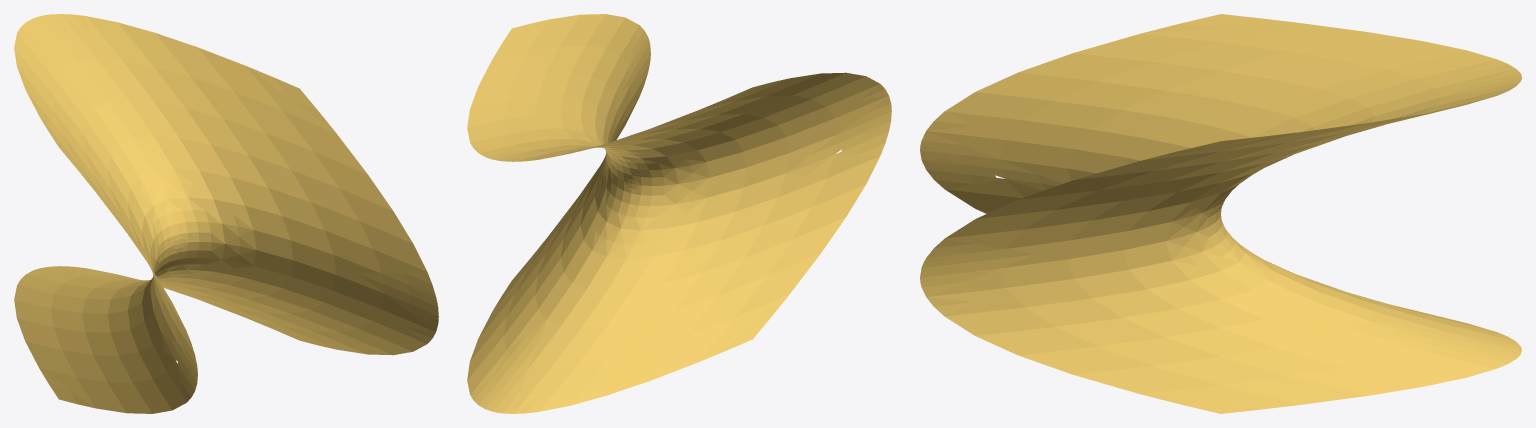
The model's file is hyperbolicParaboloid.glb.
The picture shows the model from 3 angles, left to right: view 1: azimuth 30°, elevation 25°; view 2: azimuth 150°, elevation 25°; view 3: azimuth 270°, elevation 25°; orthographic projection. The views are drawn at different scales.
Parts seen in each view (by area): view 1: object0.001; view 2: object0.001; view 3: object0.001.
Boxes of the visible parts, x1,y1,x2,y2 form: object0.001: [14, 14, 438, 413]; object0.001: [467, 14, 891, 413]; object0.001: [920, 14, 1521, 413].
Size of the model in its own units: 4 by 4 by 8.
